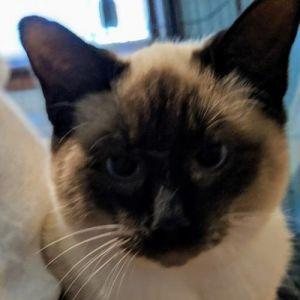siamese: (17, 1, 300, 276)
